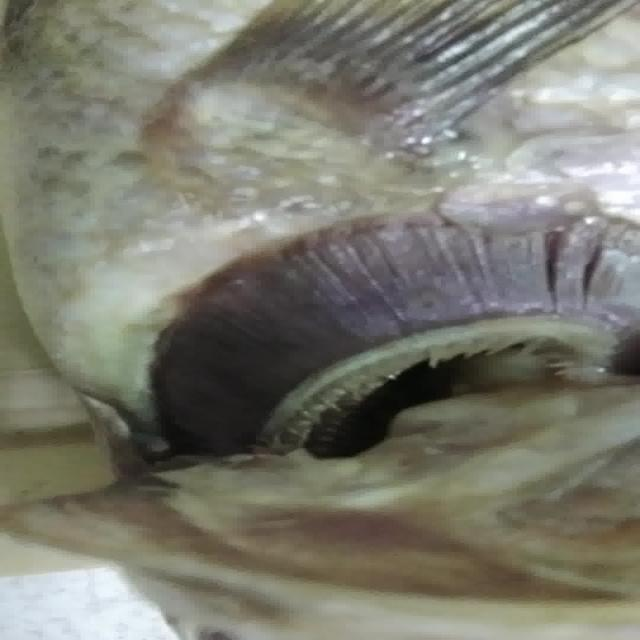Non-Fresh: (136, 169, 640, 459)
